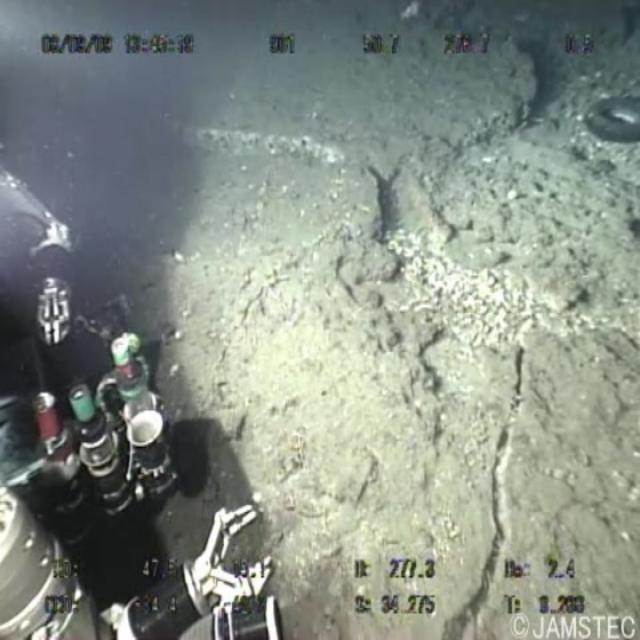Rubber: (575, 64, 640, 181)
